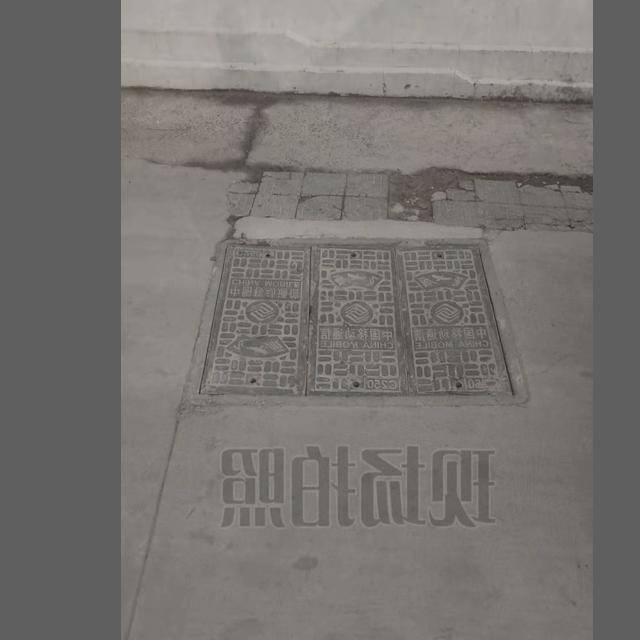good: (187, 237, 532, 407)
